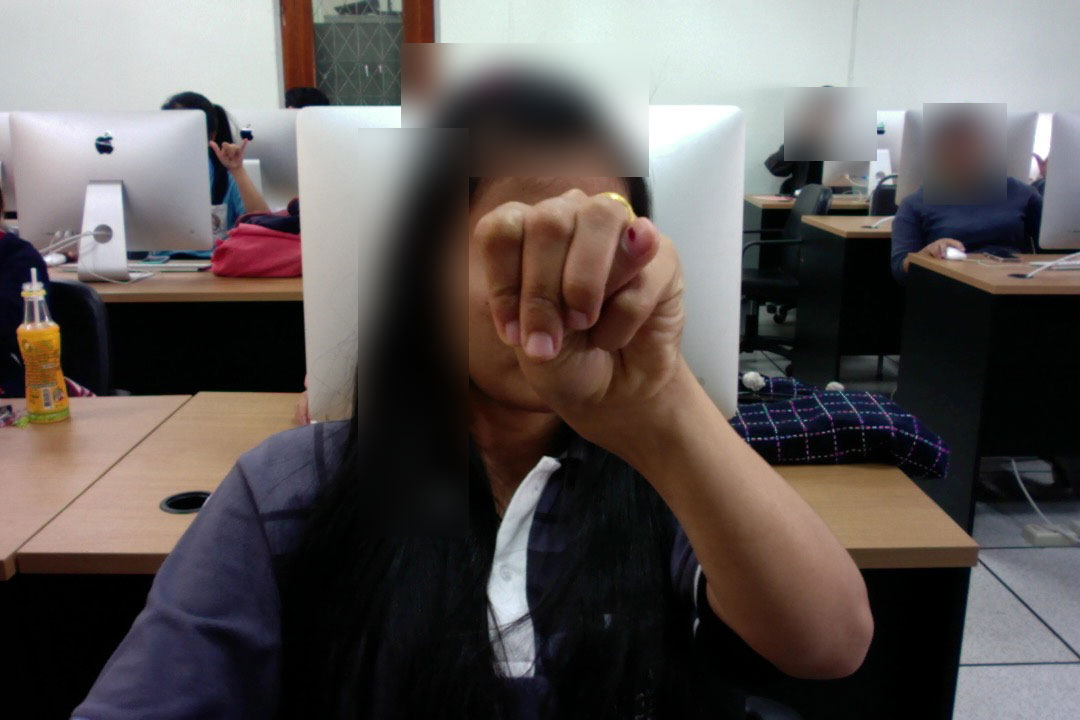mor: (469, 187, 690, 435)
